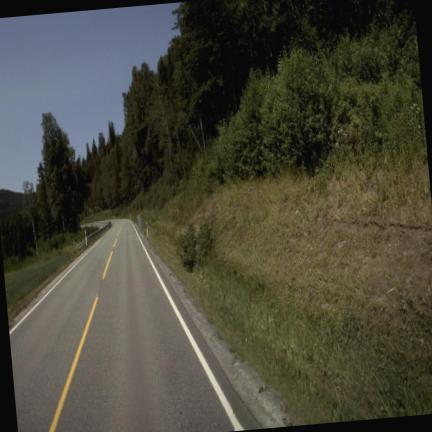Road: (9, 220, 258, 431)
